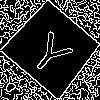Y: (26, 23, 80, 79)
